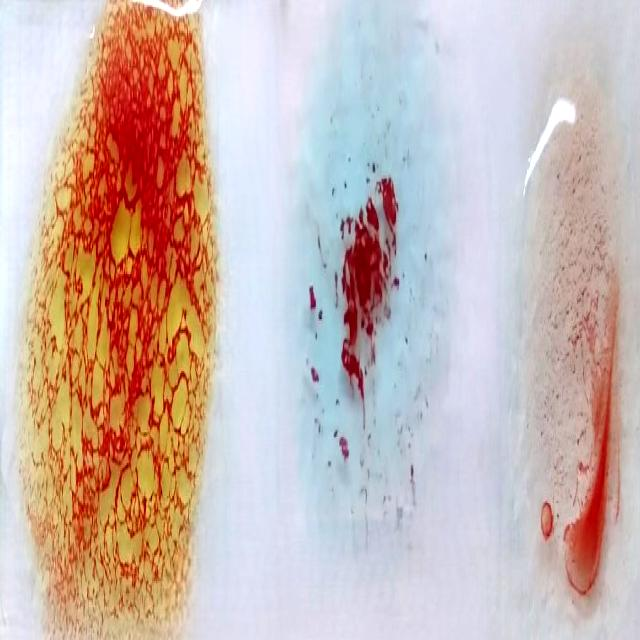A: (299, 54, 430, 524)
B: (28, 0, 205, 625)
D: (507, 75, 623, 640)
